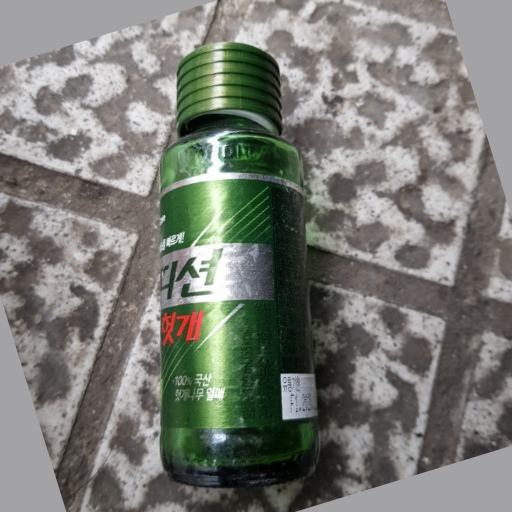Glass_4: (160, 38, 318, 496)
